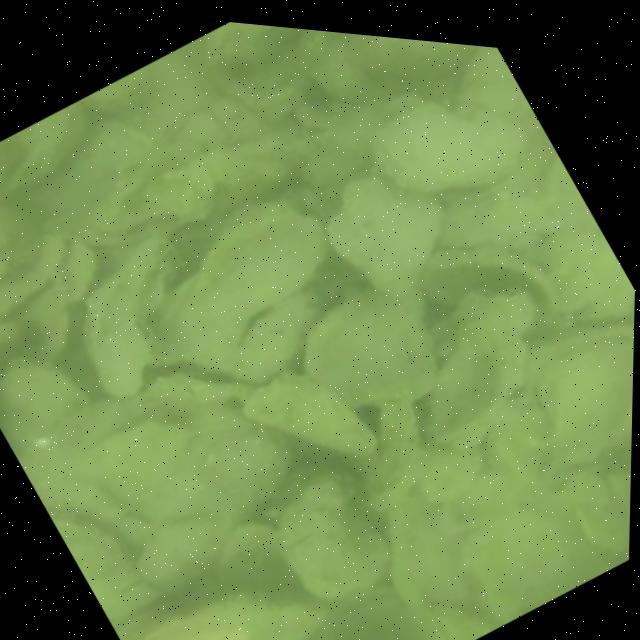Oyster-Closed: (463, 284, 538, 348)
Oyster-Indeterminate: (144, 207, 330, 369), (303, 285, 439, 409), (273, 470, 395, 601), (371, 99, 532, 191), (329, 172, 439, 294), (239, 372, 380, 458), (143, 587, 324, 640), (186, 137, 312, 209), (0, 356, 91, 455), (198, 426, 291, 504), (360, 36, 474, 78), (175, 99, 270, 149), (0, 204, 42, 279)
